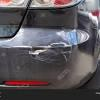rear-bumper-dent: (0, 25, 99, 93)
